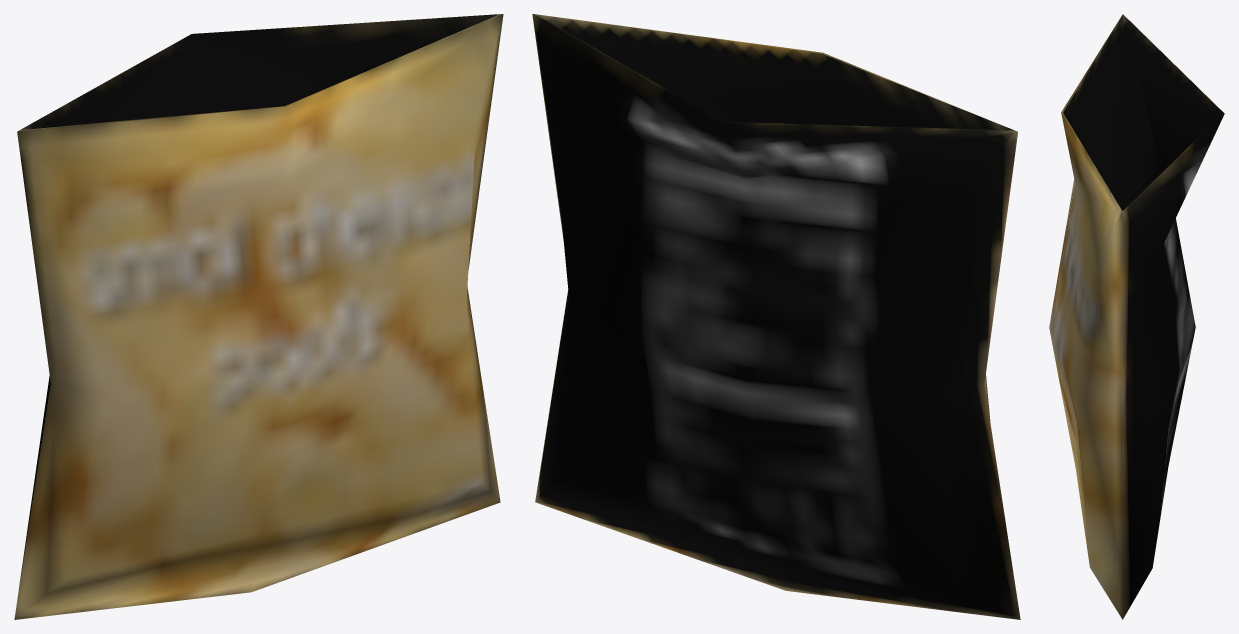
File: esya_cips_small_open_a.glb
The picture shows the model from 3 angles, left to right: view 1: azimuth 30°, elevation 25°; view 2: azimuth 150°, elevation 25°; view 3: azimuth 270°, elevation 25°; orthographic projection. The views are drawn at different scales.
Parts seen in each view (by area): view 1: Small_Open_A; view 2: Small_Open_A; view 3: Small_Open_A.
Boxes of the visible parts, x1=… form: Small_Open_A: x1=14, y1=14, x2=503, y2=619; Small_Open_A: x1=532, y1=14, x2=1020, y2=619; Small_Open_A: x1=1049, y1=14, x2=1224, y2=619.
Bounding box in the file's own units: 1.56 × 1.57 × 0.5785.
Materials: 1 (1 with a texture image).
